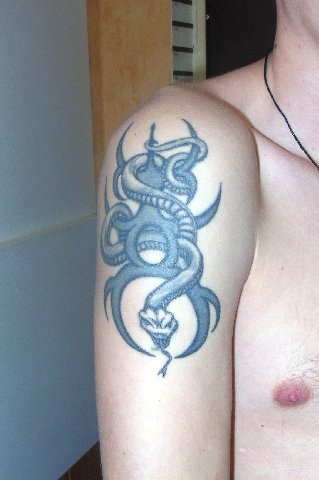tatu7_zmeya: (101, 116, 226, 357)
